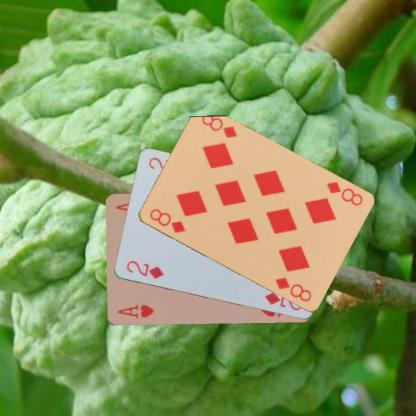2d: (124, 258, 164, 281)
8d: (324, 178, 364, 208), (146, 206, 187, 235)
Ah: (115, 302, 155, 320)
